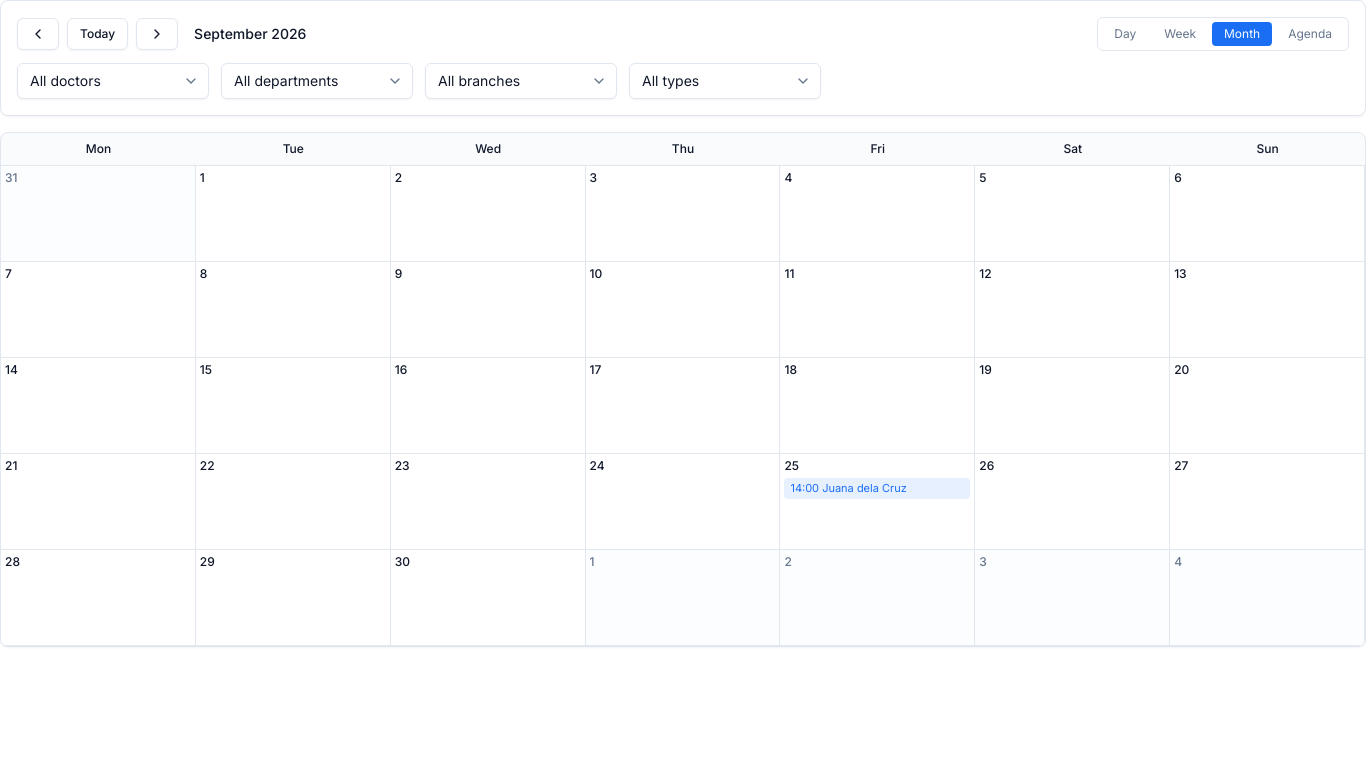
Test: AppointmentCalendar › existing view-mode navigation (Day/Week/Month/Agenda) still works
The width and height of the screenshot is (1366, 768).
Expected: the button "14:00 Juana dela Cruz" is shown, [784,478,970,498]
Click the button "agenda" at (1310, 34), box [1276,22,1344,46]
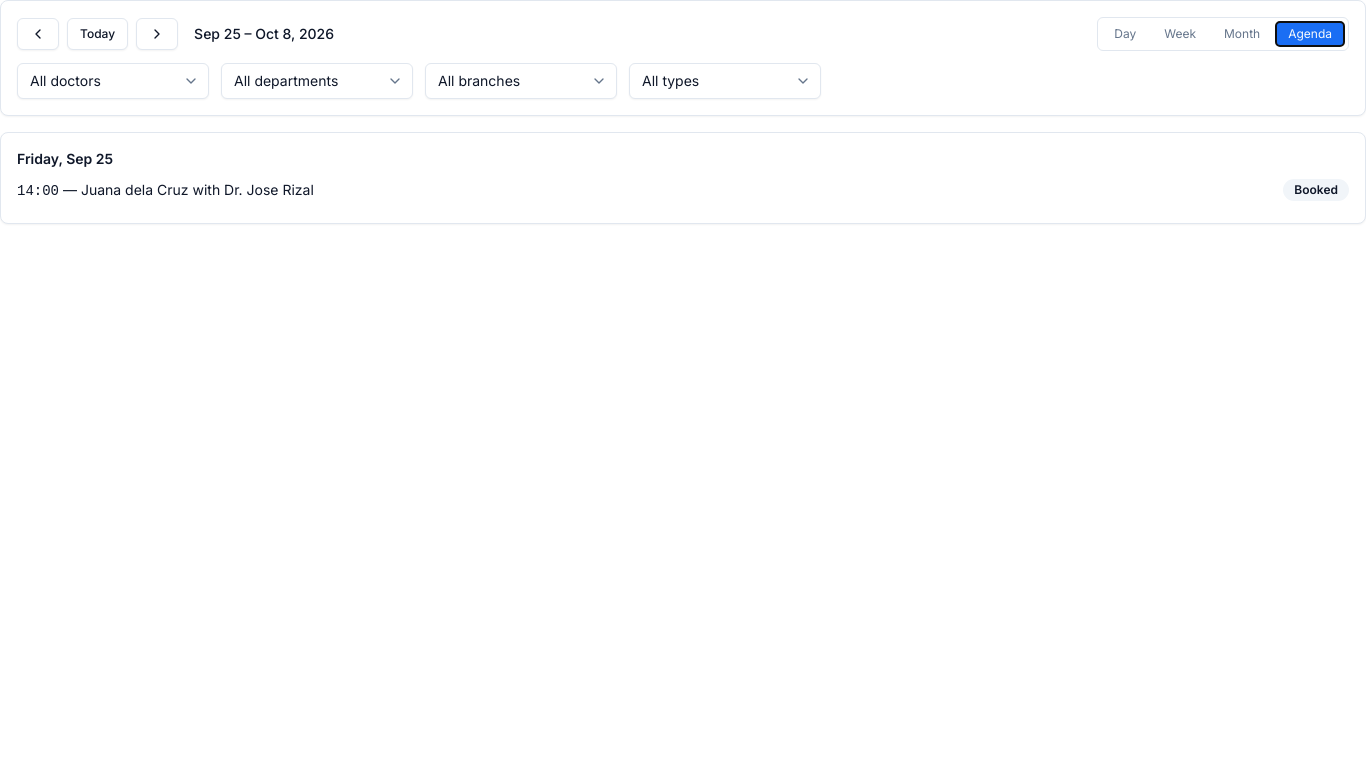
Expected: the button "14:00 — Juana dela Cruz with Dr. Jose Rizal" is shown, [17,180,314,200]
Click the button "day" at (1125, 34), box [1102,22,1148,46]
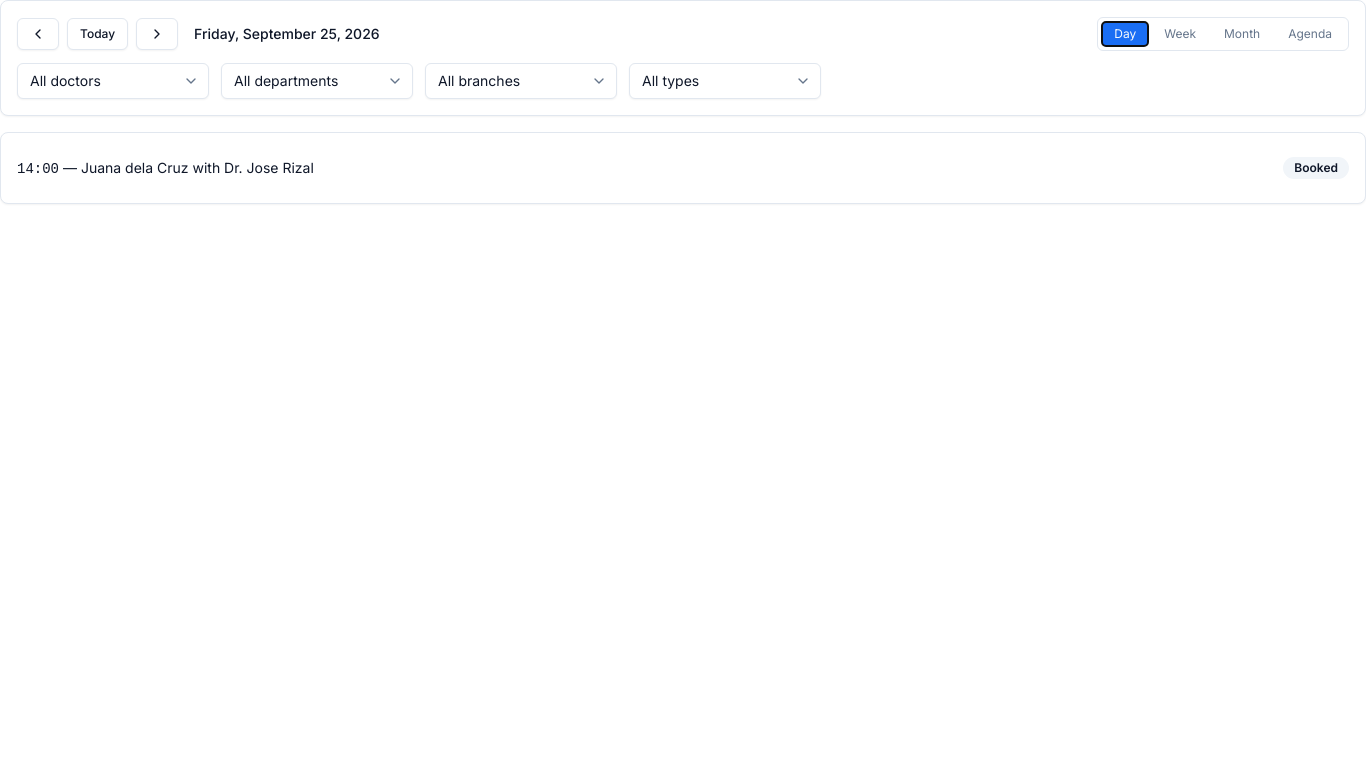
Expected: the button "14:00 — Juana dela Cruz with Dr. Jose Rizal" is shown, [17,158,314,178]
Click the button "week" at (1180, 34), box [1152,22,1208,46]
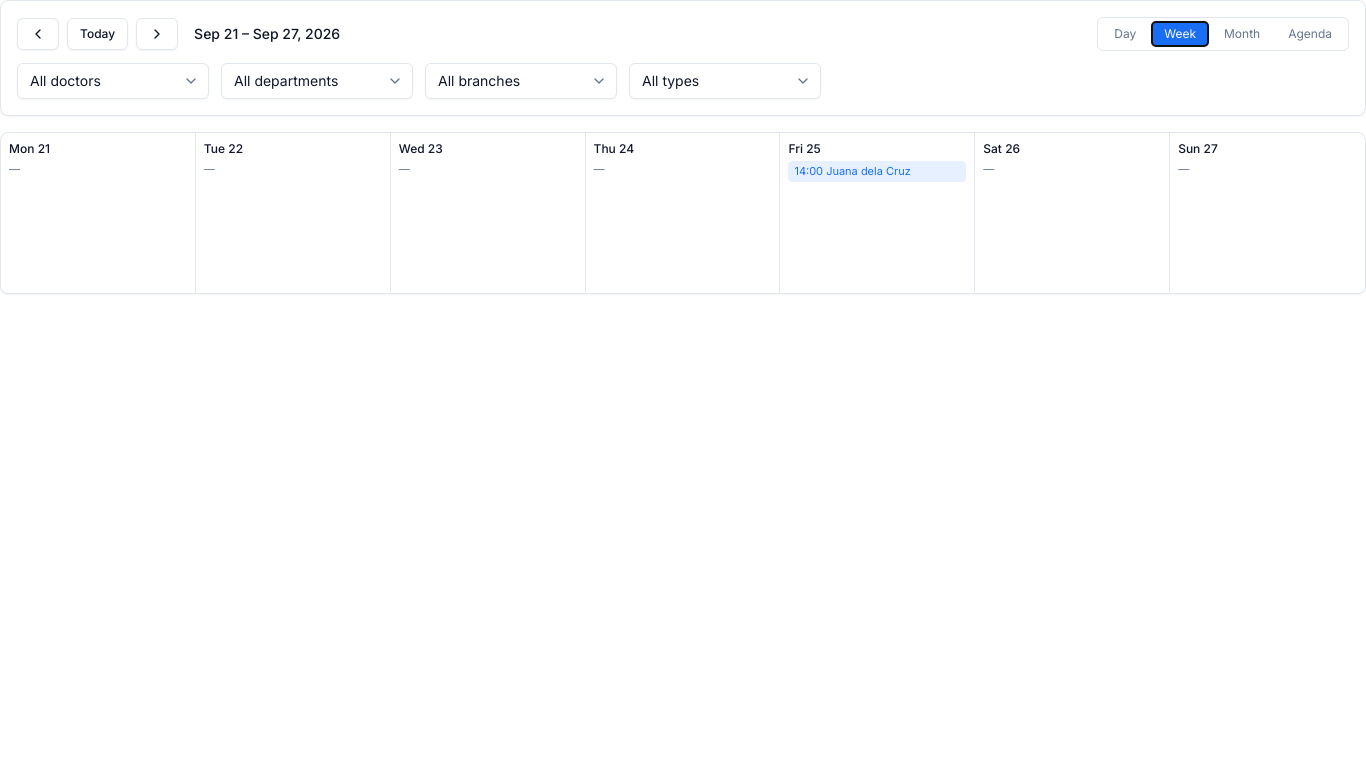
Expected: the button "14:00 Juana dela Cruz" is shown, [788,161,966,182]
